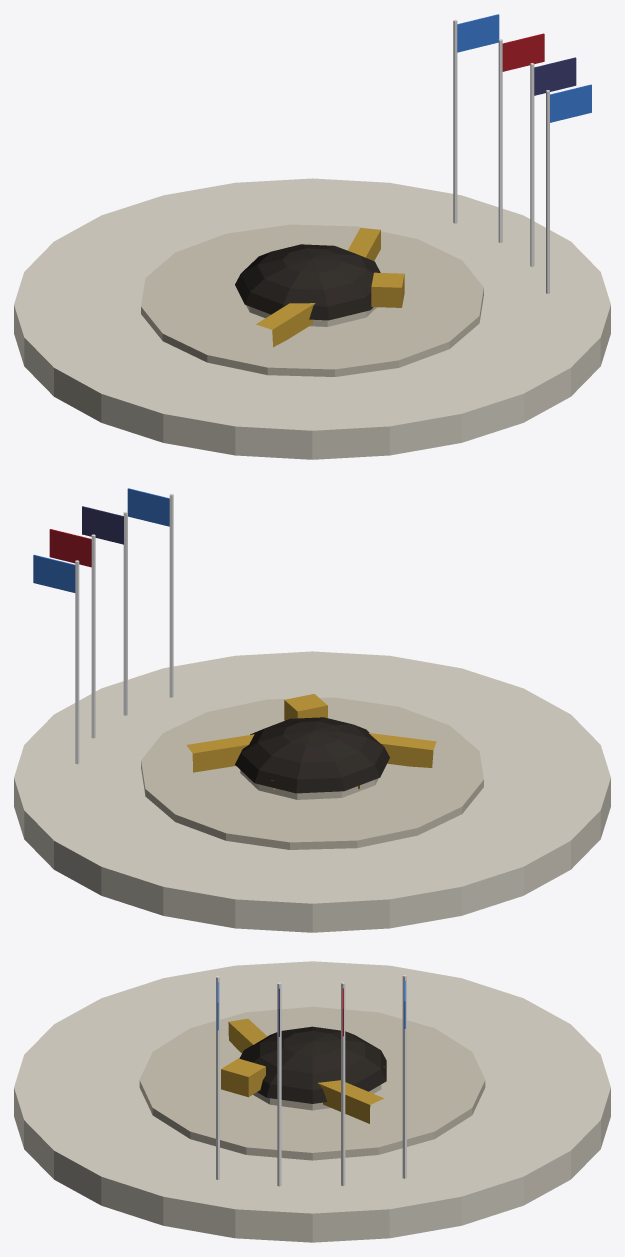
The model's file is rb_driekiel.glb.
The picture shows the model from 3 angles, top to bottom: view 1: azimuth 30°, elevation 25°; view 2: azimuth 150°, elevation 25°; view 3: azimuth 270°, elevation 25°; orthographic projection.
Parts seen in each view (by area): view 1: rb_driekiel_lod0; view 2: rb_driekiel_lod0; view 3: rb_driekiel_lod0.
Part boxes in pixels (x1=…): rb_driekiel_lod0: x1=14, y1=14, x2=610, y2=459; rb_driekiel_lod0: x1=14, y1=488, x2=610, y2=932; rb_driekiel_lod0: x1=14, y1=961, x2=610, y2=1242.
Size of what is drawn, in the model's own units: 21.4 by 9.22 by 21.4.
